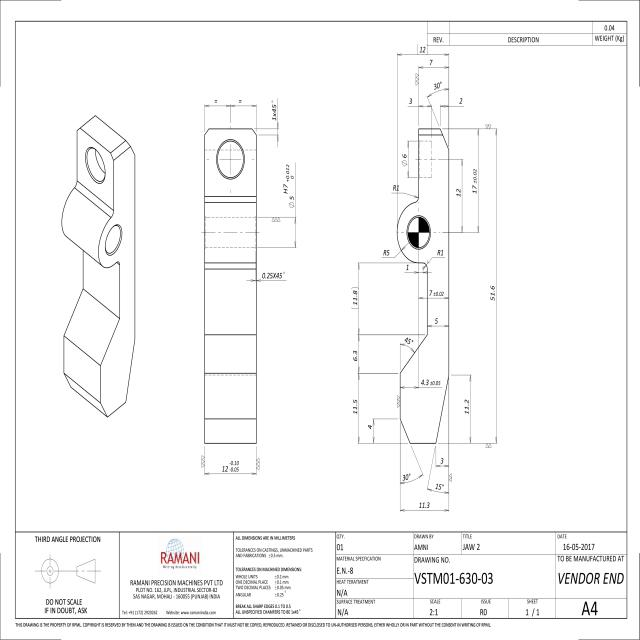dimension: (282, 162, 296, 210), (220, 458, 240, 474), (260, 270, 286, 281), (419, 378, 442, 388), (350, 286, 359, 310), (471, 167, 478, 195), (270, 99, 278, 122), (416, 43, 430, 56), (428, 288, 445, 298), (489, 283, 497, 303), (463, 396, 471, 416), (401, 472, 413, 484), (433, 79, 444, 91), (403, 335, 415, 346), (418, 500, 431, 510), (352, 396, 358, 416), (401, 152, 408, 168), (391, 182, 401, 192), (382, 248, 392, 258), (434, 482, 445, 491), (455, 186, 462, 199), (436, 248, 445, 258), (352, 349, 358, 363), (433, 316, 440, 326), (439, 456, 446, 466), (428, 58, 434, 68), (458, 96, 464, 106), (405, 262, 411, 272), (408, 96, 413, 106), (367, 423, 373, 431)
